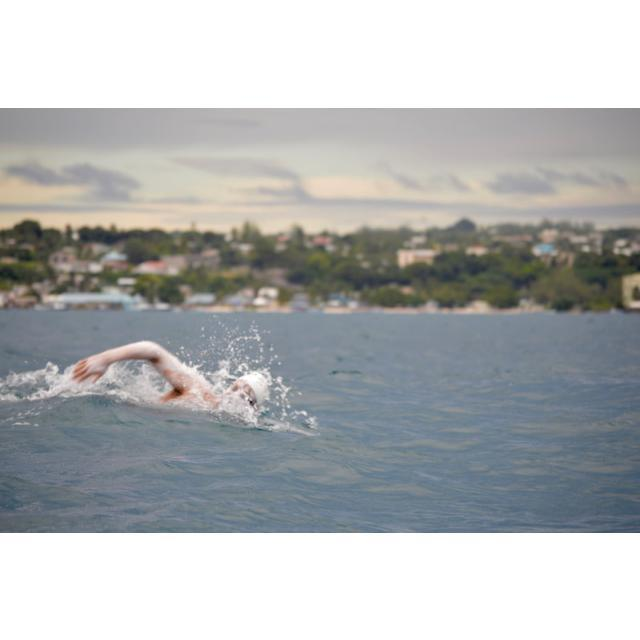human: (60, 336, 276, 420)
